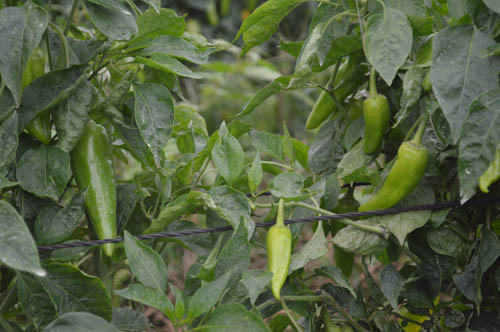ChiliPepper: (74, 126, 120, 249), (356, 144, 432, 211), (304, 63, 358, 127), (359, 98, 387, 157), (269, 228, 292, 295)
